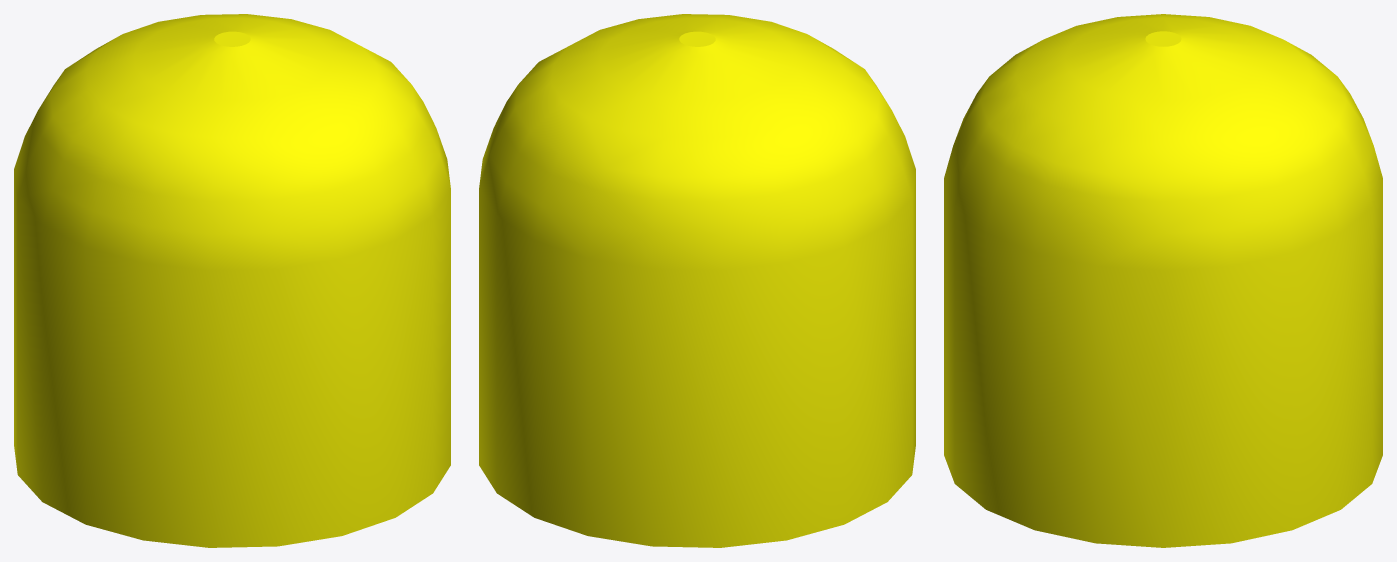
File: Ghost.obj
3 views of the same model, side by side, from view 1: azimuth 30°, elevation 25°; view 2: azimuth 150°, elevation 25°; view 3: azimuth 270°, elevation 25° (orthographic).
Parts seen in each view (by area): view 1: pCylinder1; view 2: pCylinder1; view 3: pCylinder1.
Part boxes in pixels (x1=…): pCylinder1: x1=14, y1=14, x2=450, y2=547; pCylinder1: x1=479, y1=14, x2=915, y2=547; pCylinder1: x1=944, y1=14, x2=1382, y2=547.
Size of the model in its own units: 18 by 18.83 by 18.
